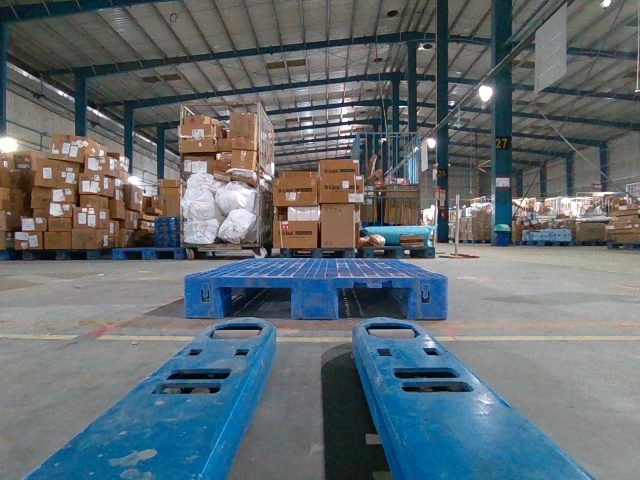block: (289, 279, 338, 321), (183, 274, 227, 319), (408, 276, 448, 321)
front: (184, 276, 447, 322)
hole pallet: (221, 287, 291, 324), (337, 287, 410, 322)
